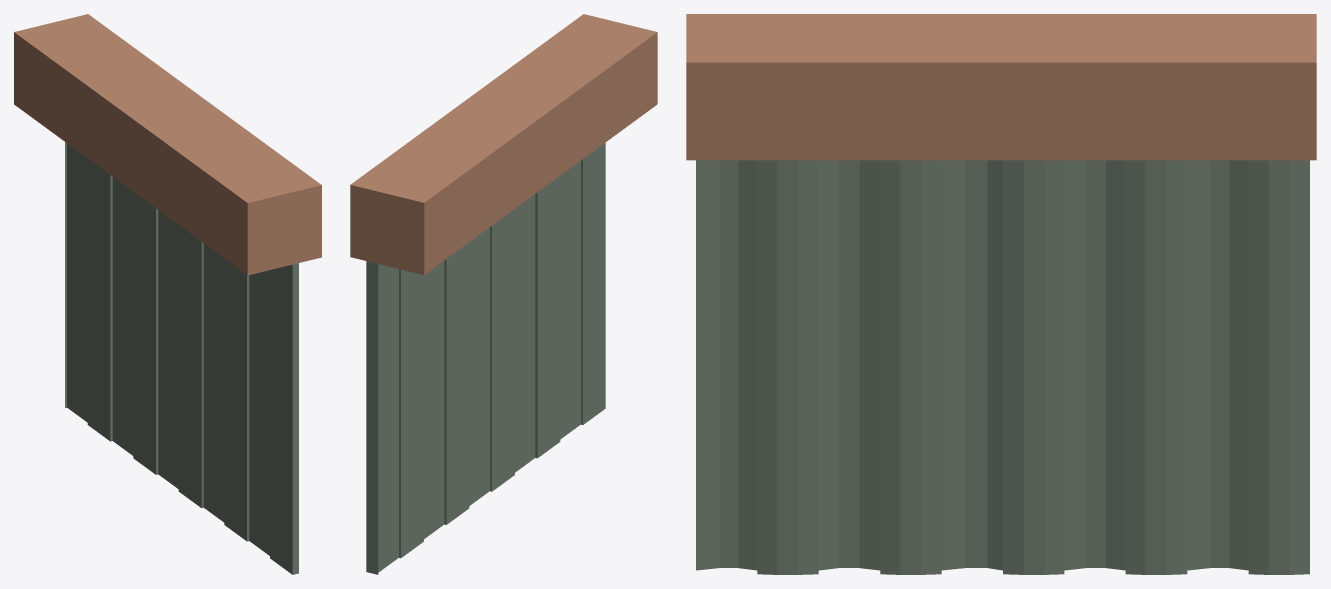
The model's file is Kitchen_Window.fbx.
3 renders of one model, left to right at view 1: azimuth 30°, elevation 25°; view 2: azimuth 150°, elevation 25°; view 3: azimuth 270°, elevation 25°, orthographic. The views are drawn at different scales.
Parts seen in each view (by area): view 1: Kitchen_Window, Kitchen_Window.001; view 2: Kitchen_Window, Kitchen_Window.001; view 3: Kitchen_Window, Kitchen_Window.001.
Boxes of the visible parts, left/top/right/bottom form: Kitchen_Window: left=65, top=142, right=298, bottom=574; Kitchen_Window.001: left=14, top=14, right=321, bottom=275; Kitchen_Window: left=366, top=142, right=605, bottom=574; Kitchen_Window.001: left=350, top=14, right=657, bottom=274; Kitchen_Window: left=696, top=160, right=1309, bottom=574; Kitchen_Window.001: left=686, top=14, right=1316, bottom=160.
Size of the model in its own units: 143 by 131 by 26.26.
